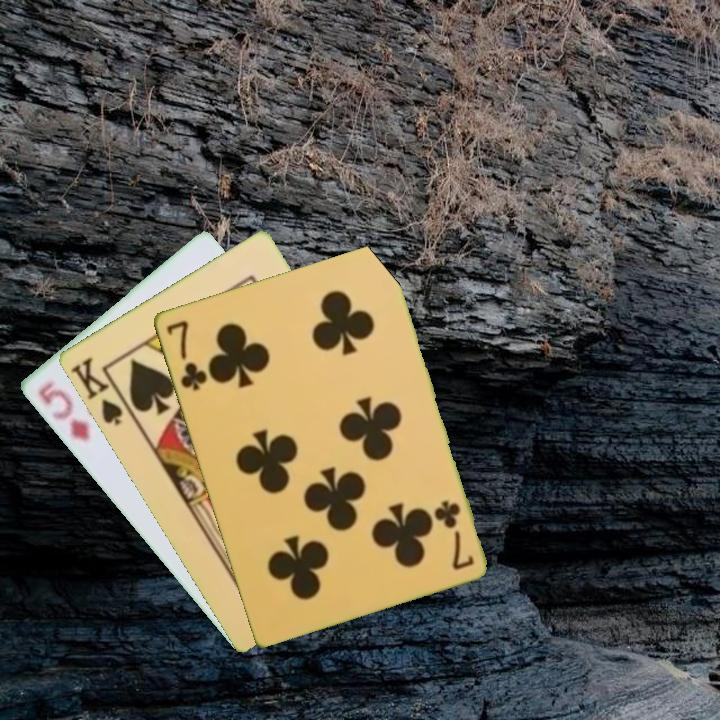5d: (34, 377, 93, 445)
7c: (162, 316, 210, 393), (431, 496, 477, 573)
Ks: (67, 353, 126, 429)
